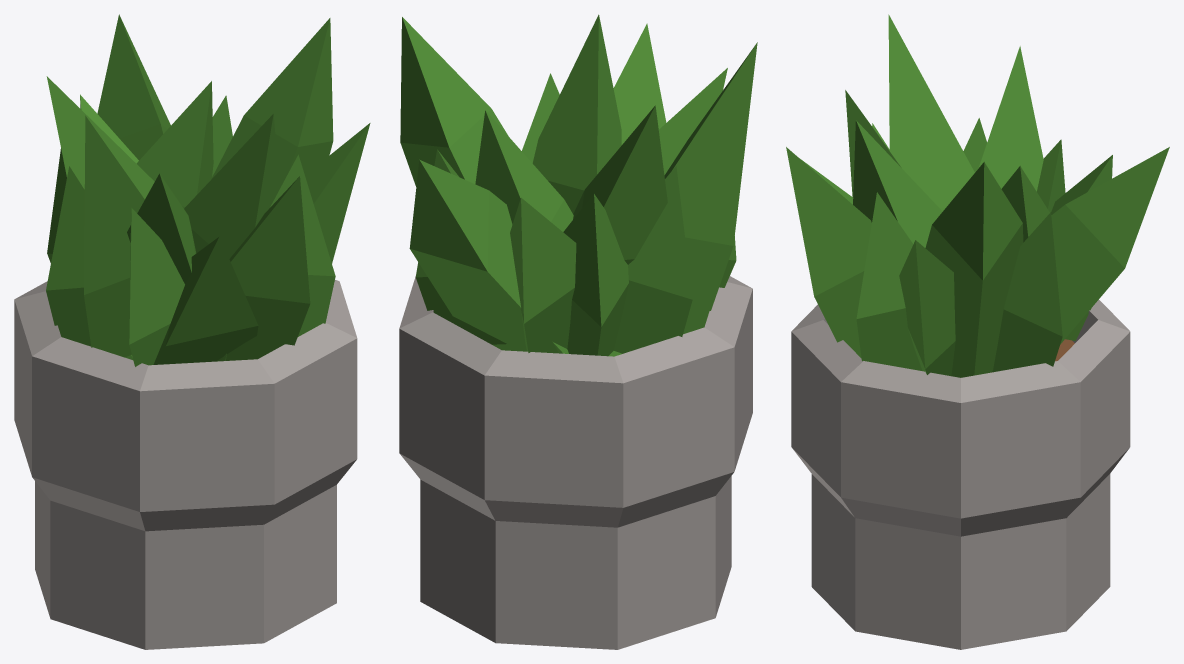
File: furniture_pot-small-circle-plant.fbx
The picture shows the model from 3 angles, left to right: view 1: azimuth 30°, elevation 25°; view 2: azimuth 150°, elevation 25°; view 3: azimuth 270°, elevation 25°; orthographic projection. The views are drawn at different scales.
Parts seen in each view (by area): view 1: furniture_pot_small_circle_plant; view 2: furniture_pot_small_circle_plant; view 3: furniture_pot_small_circle_plant.
Part boxes in pixels (bbox=[...]): furniture_pot_small_circle_plant: bbox=[14, 14, 370, 649]; furniture_pot_small_circle_plant: bbox=[399, 14, 757, 649]; furniture_pot_small_circle_plant: bbox=[786, 14, 1169, 649].
Bounding box in the file's own units: 124 × 200 × 137.
